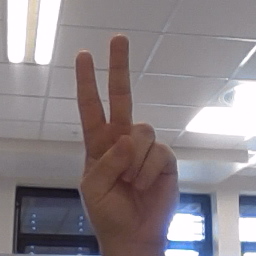V: (71, 32, 185, 234)
